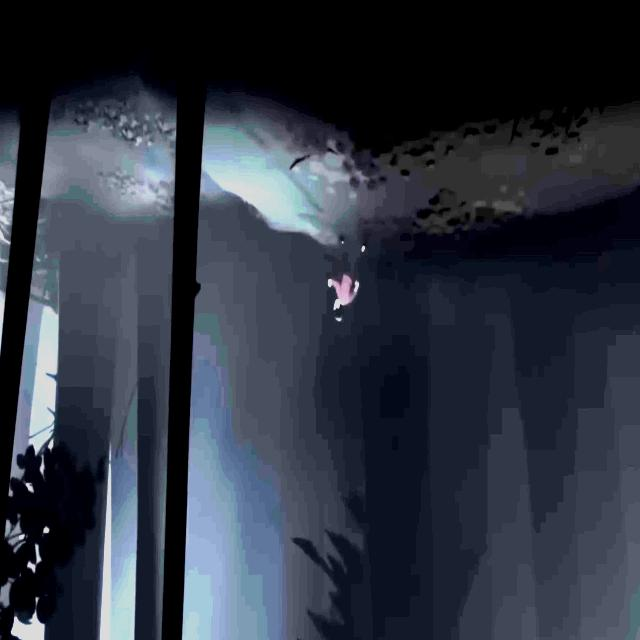boy: (328, 239, 365, 321)
